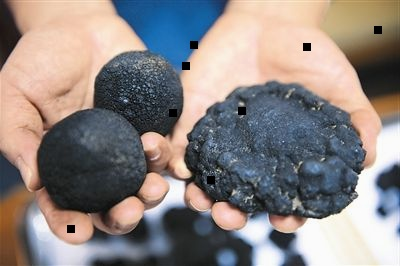halobolite: (181, 78, 373, 221), (38, 102, 146, 219), (88, 46, 183, 141)
